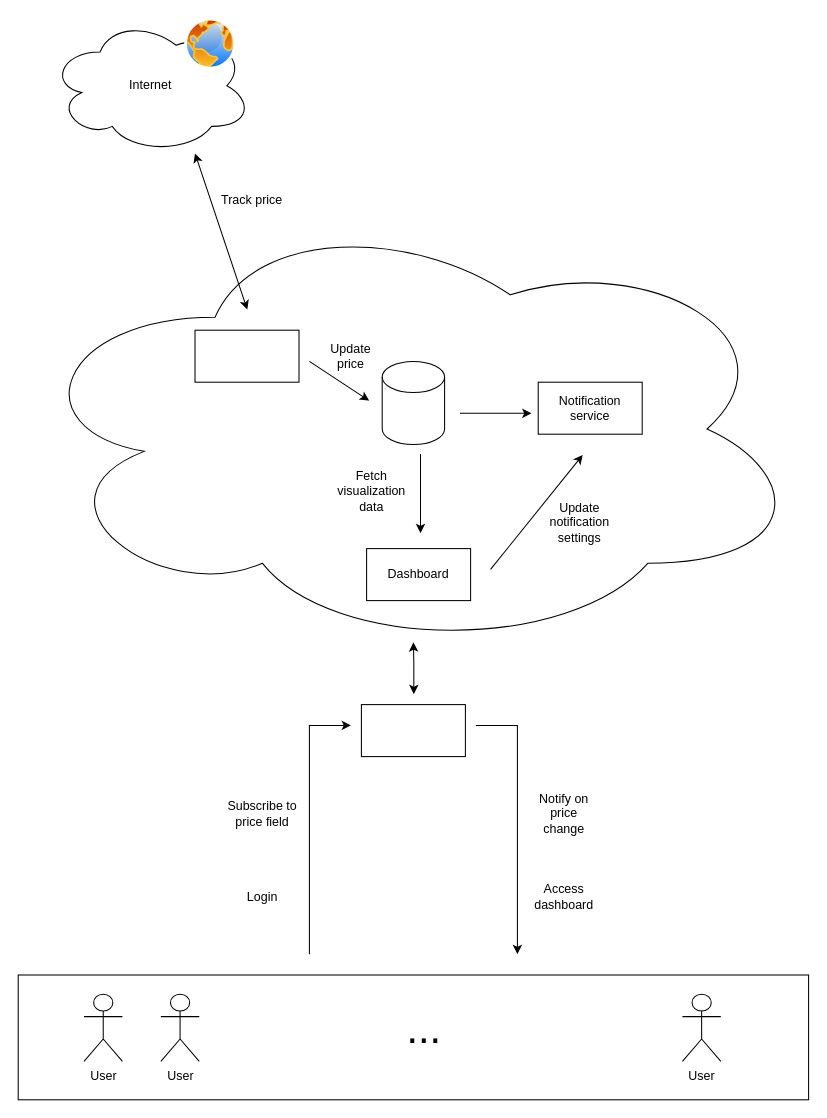
The diagram is 827 pixels wide and 1118 high, and some of its shapes have lost their labels. Here are the shapes that lost their labels. From the top down, the centre of each, then its label:
At point 246,355: "PriceTracker service".
At point 413,402: "SQLite".
At point 412,730: "NGINX Reverse Proxy".
